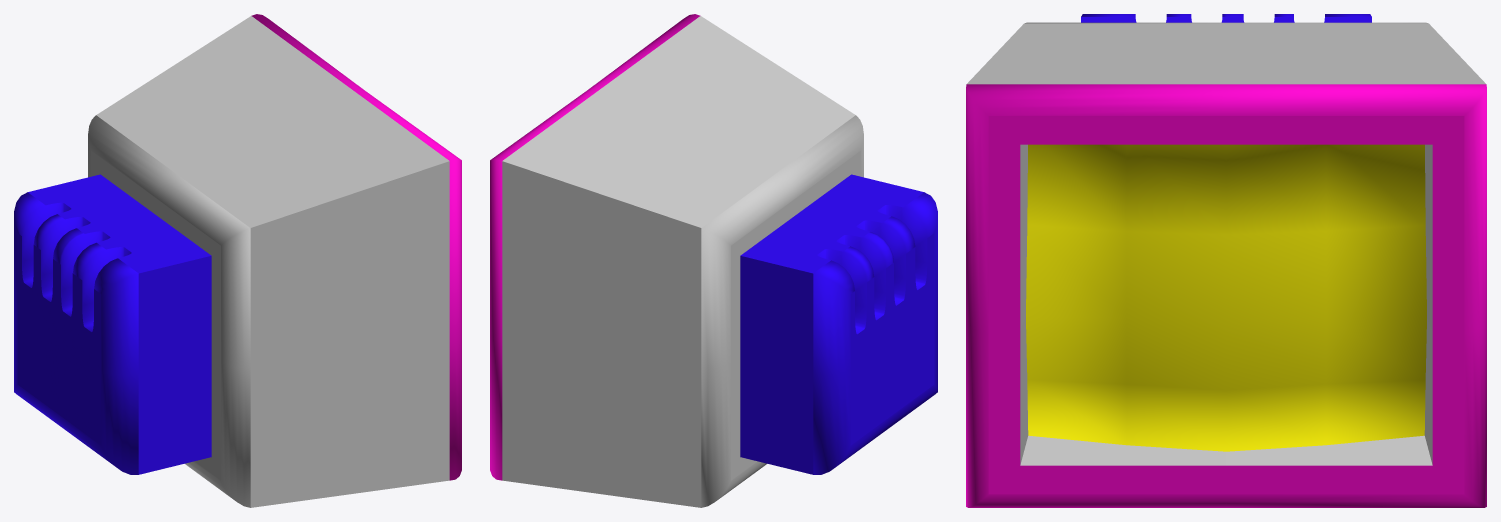
3 views of the same model, side by side, from view 1: azimuth 30°, elevation 25°; view 2: azimuth 150°, elevation 25°; view 3: azimuth 270°, elevation 25° (orthographic). The views are drawn at different scales.
Parts seen in each view (by area): view 1: Cube; view 2: Cube; view 3: Cube.
Part boxes in pixels (<box>): Cube: <box>14,14,461,507</box>; Cube: <box>490,14,937,507</box>; Cube: <box>966,14,1486,507</box>.
Size of the model in its own units: 176 by 174 by 196.
